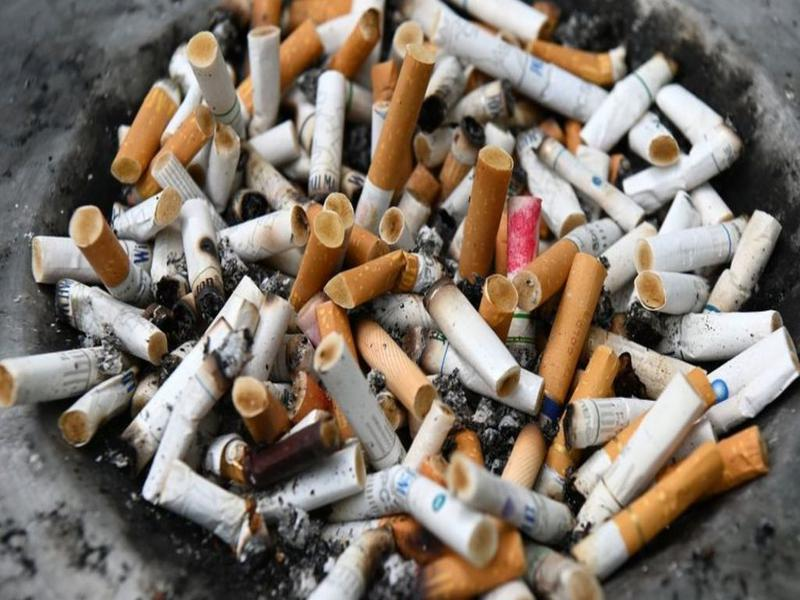burned_cigarette: (575, 365, 707, 539), (350, 38, 442, 242), (307, 327, 413, 473), (418, 275, 527, 400), (48, 273, 173, 371), (533, 131, 647, 233), (574, 47, 683, 153), (448, 452, 571, 545), (451, 141, 519, 291), (61, 198, 151, 308), (109, 69, 186, 185), (177, 28, 254, 141), (173, 196, 237, 321), (299, 64, 356, 202), (627, 261, 717, 322)
